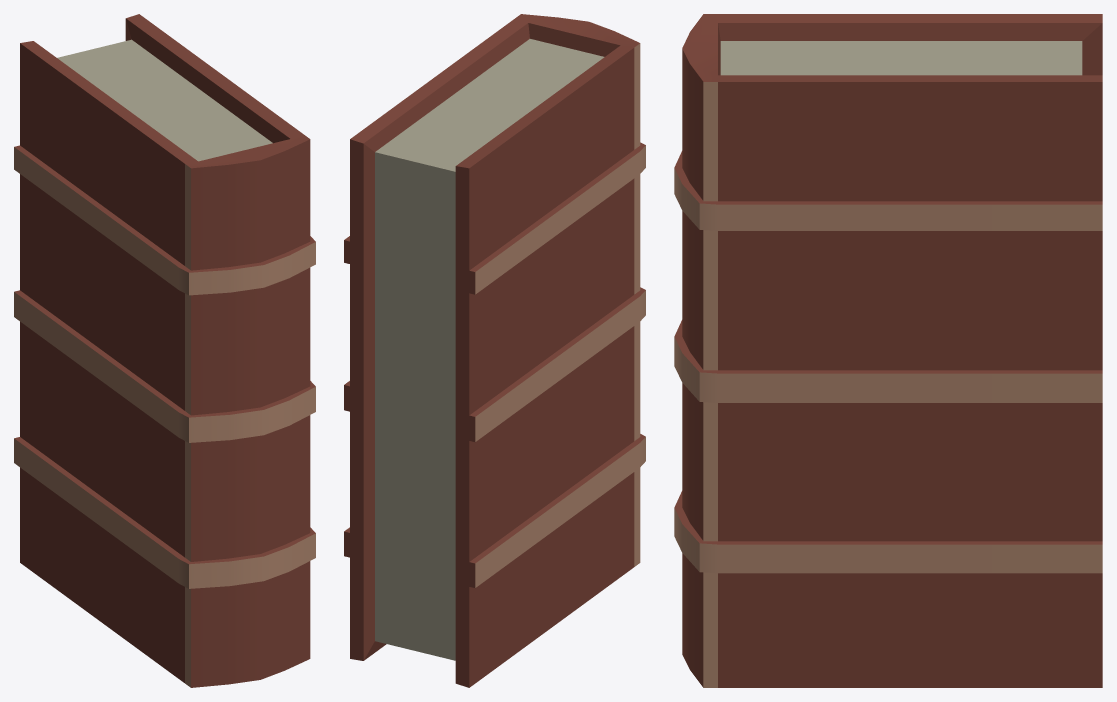
The model's file is FMP_Book_Shaded.fbx.
3 views of the same model, side by side, from view 1: azimuth 30°, elevation 25°; view 2: azimuth 150°, elevation 25°; view 3: azimuth 270°, elevation 25° (orthographic). The views are drawn at different scales.
Visible parts, largest first — view 1: pCube120; view 2: pCube120; view 3: pCube120.
Boxes of the visible parts, x1,y1,x2,y2 form: pCube120: (14,14,315,687); pCube120: (344,14,645,687); pCube120: (674,14,1102,687).
Bounding box in the file's own units: 165 × 624 × 400.
